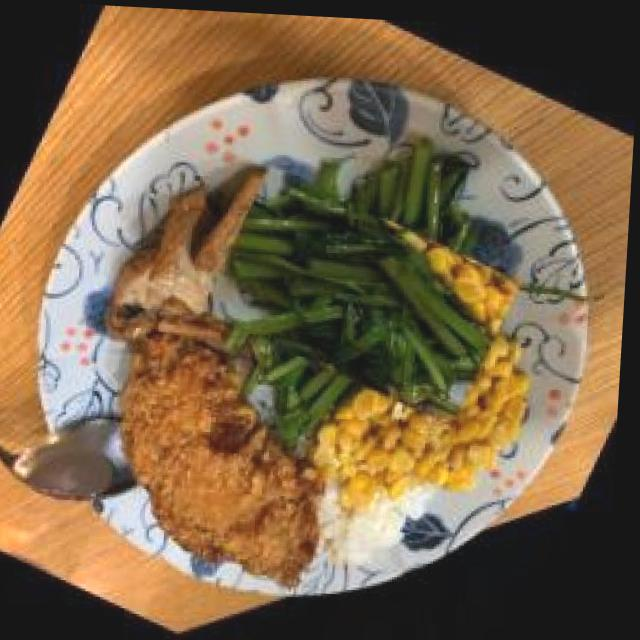fried_chicken: (70, 319, 380, 604)
water_spinach: (215, 145, 514, 441)
